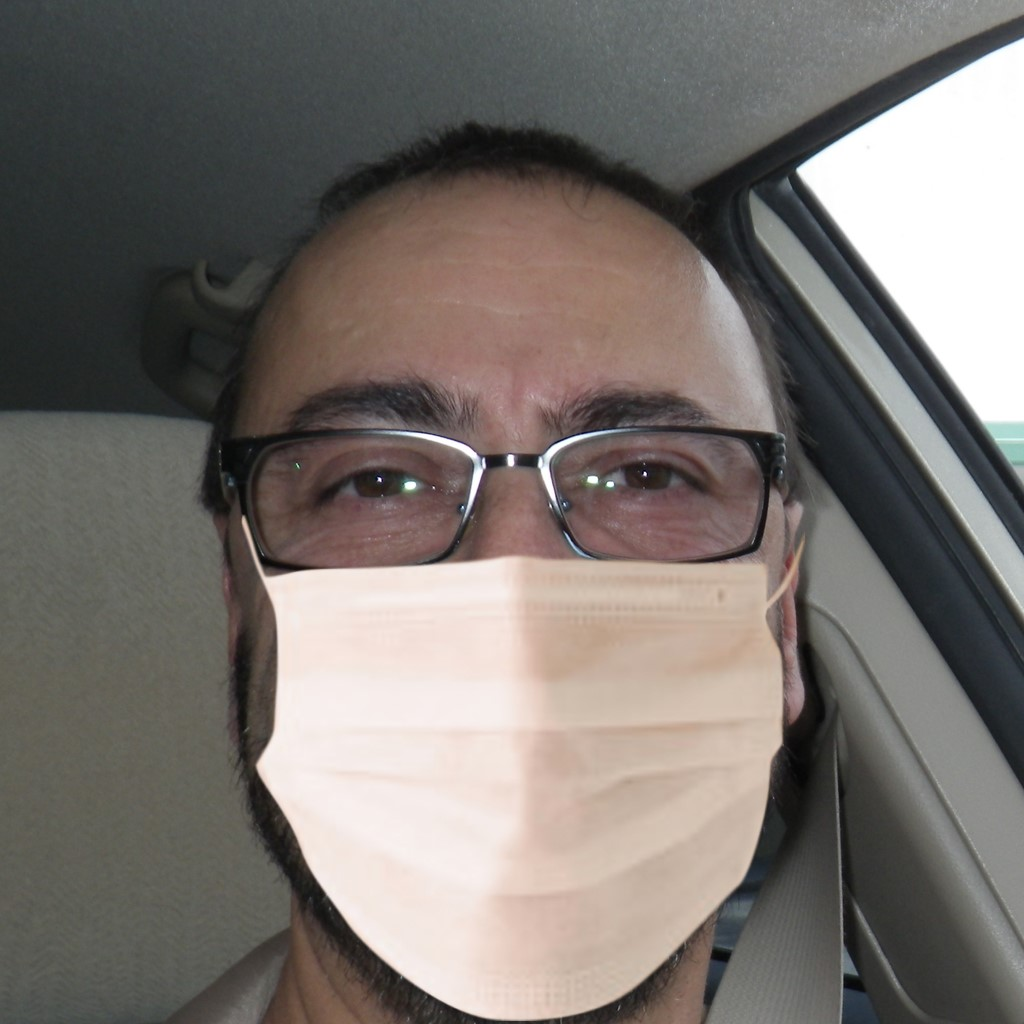con_mascara: (164, 139, 840, 1005)
